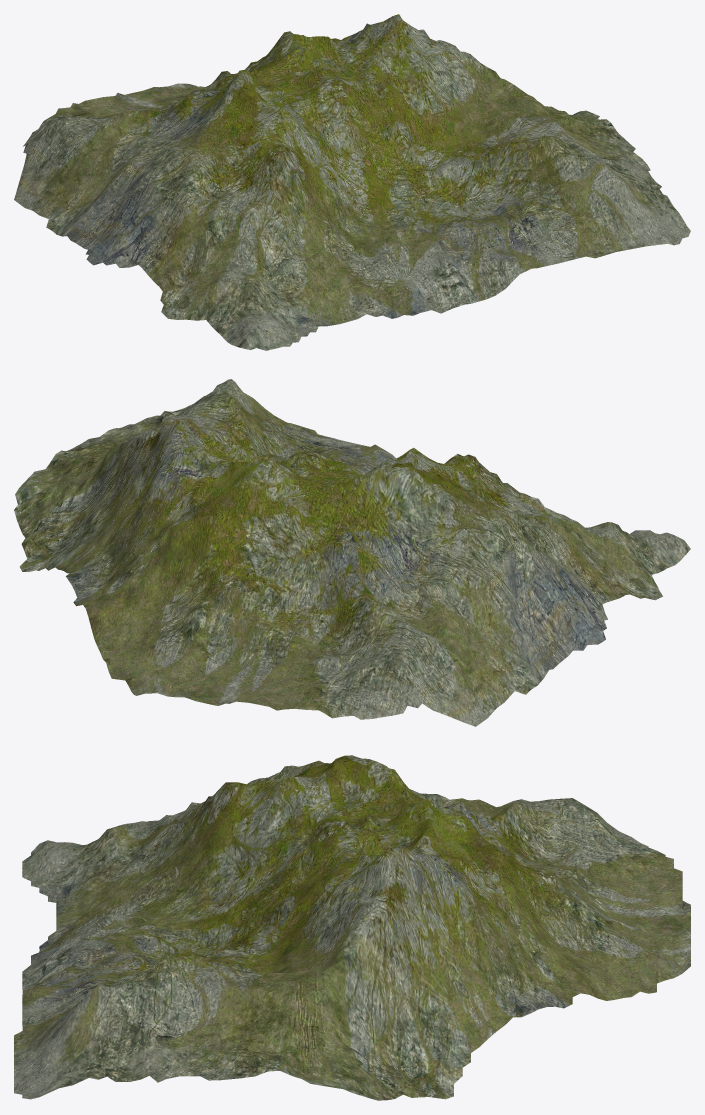
Rendered from Mounain.fbx.
3 views of the same model, one above another, from view 1: azimuth 30°, elevation 25°; view 2: azimuth 150°, elevation 25°; view 3: azimuth 270°, elevation 25° (orthographic). The views are drawn at different scales.
Visible parts, largest first — view 1: LV_Campagna_Mountain_SM_HSH; view 2: LV_Campagna_Mountain_SM_HSH; view 3: LV_Campagna_Mountain_SM_HSH.
Boxes of the visible parts, x1,y1,x2,y2 form: LV_Campagna_Mountain_SM_HSH: [14, 14, 690, 350]; LV_Campagna_Mountain_SM_HSH: [14, 379, 690, 726]; LV_Campagna_Mountain_SM_HSH: [14, 755, 690, 1100].
Bounding box in the file's own units: 145 × 43.04 × 138.
